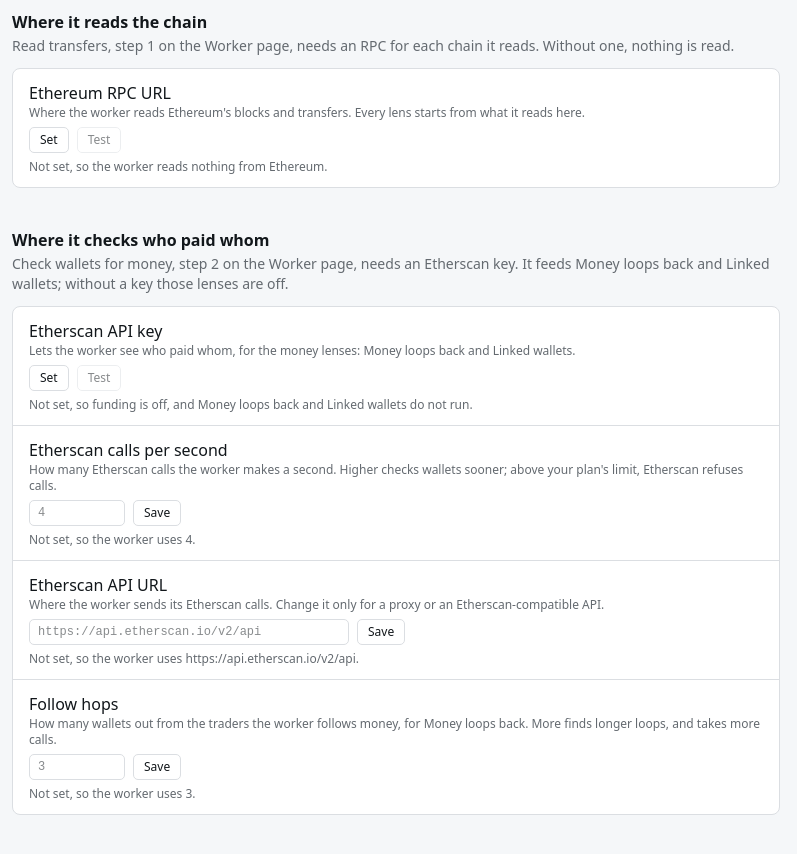
Test: Settings, each field › says what the API refused
In the field labelled "Follow hops": (77, 767) [29, 754, 125, 780], type "40"
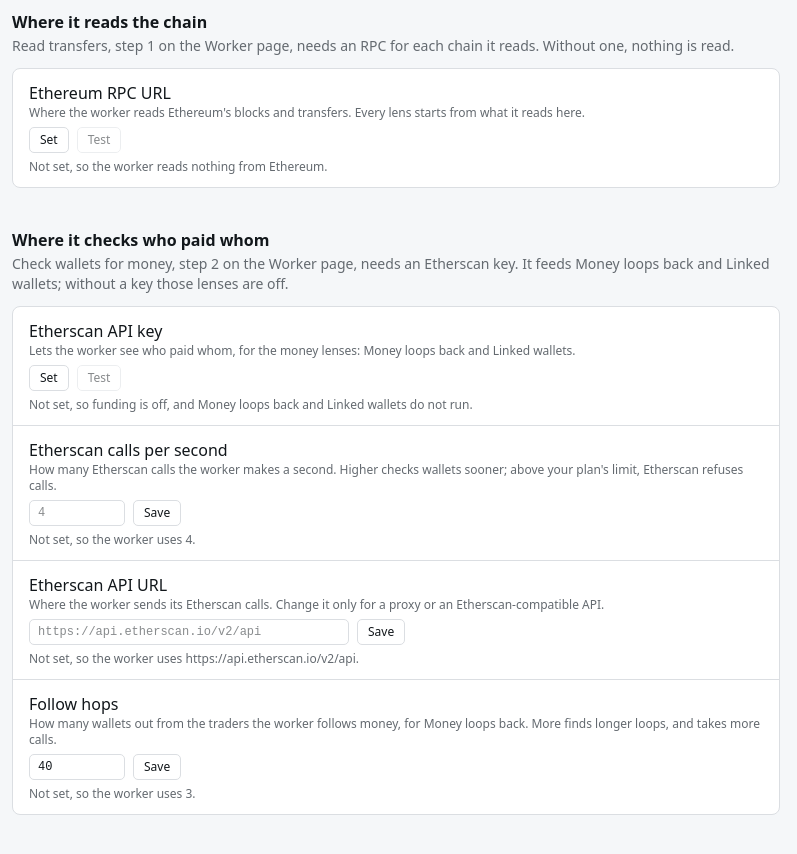
Click the button "Save" below "Follow hops": (157, 767) [133, 754, 181, 780]
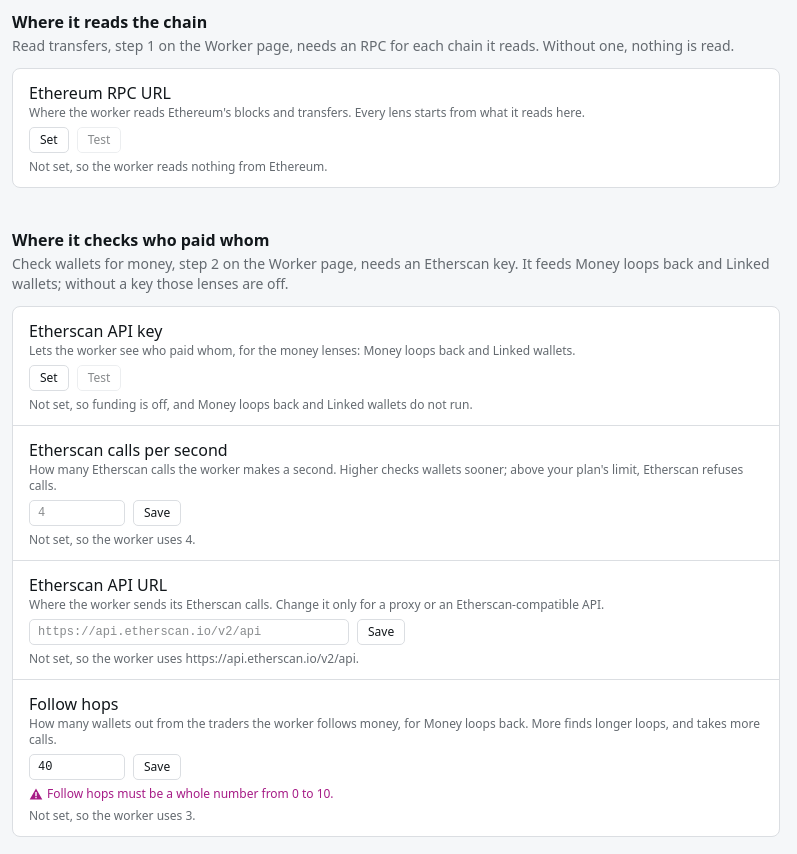
Expected: the message "Follow hops must be a whole number from 0 to 10." is shown, [29, 785, 334, 802]
